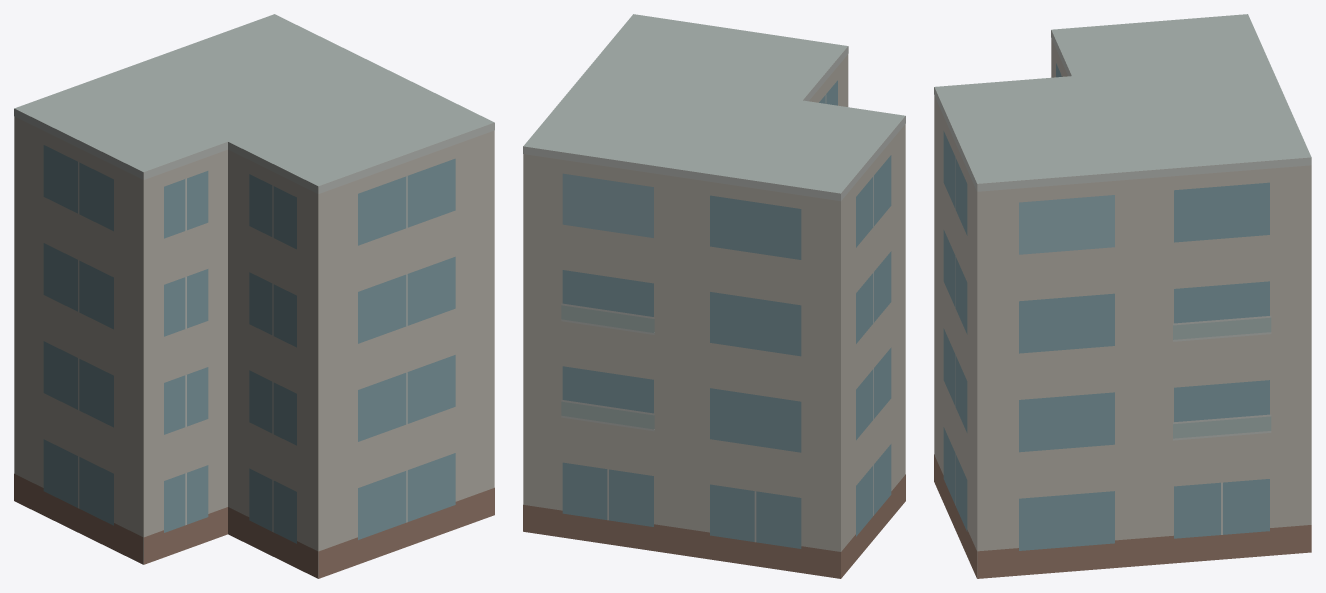
File: residential-8f3a12d5-df29-49ee-9097-4dc341da2e2f.glb
3 renders of one model, left to right at view 1: azimuth 30°, elevation 25°; view 2: azimuth 150°, elevation 25°; view 3: azimuth 270°, elevation 25°, orthographic. The views are drawn at different scales.
Visible parts, largest first — view 1: residential-8f3a12d5-df29-49ee-9097-4dc341da2e2f.tmp; view 2: residential-8f3a12d5-df29-49ee-9097-4dc341da2e2f.tmp; view 3: residential-8f3a12d5-df29-49ee-9097-4dc341da2e2f.tmp.
Part boxes in pixels (left/top/right/bottom): residential-8f3a12d5-df29-49ee-9097-4dc341da2e2f.tmp: left=14, top=14, right=494, bottom=578; residential-8f3a12d5-df29-49ee-9097-4dc341da2e2f.tmp: left=523, top=14, right=905, bottom=578; residential-8f3a12d5-df29-49ee-9097-4dc341da2e2f.tmp: left=934, top=14, right=1311, bottom=578.
Size of the model in its own units: 11.27 by 12.2 by 10.58.
